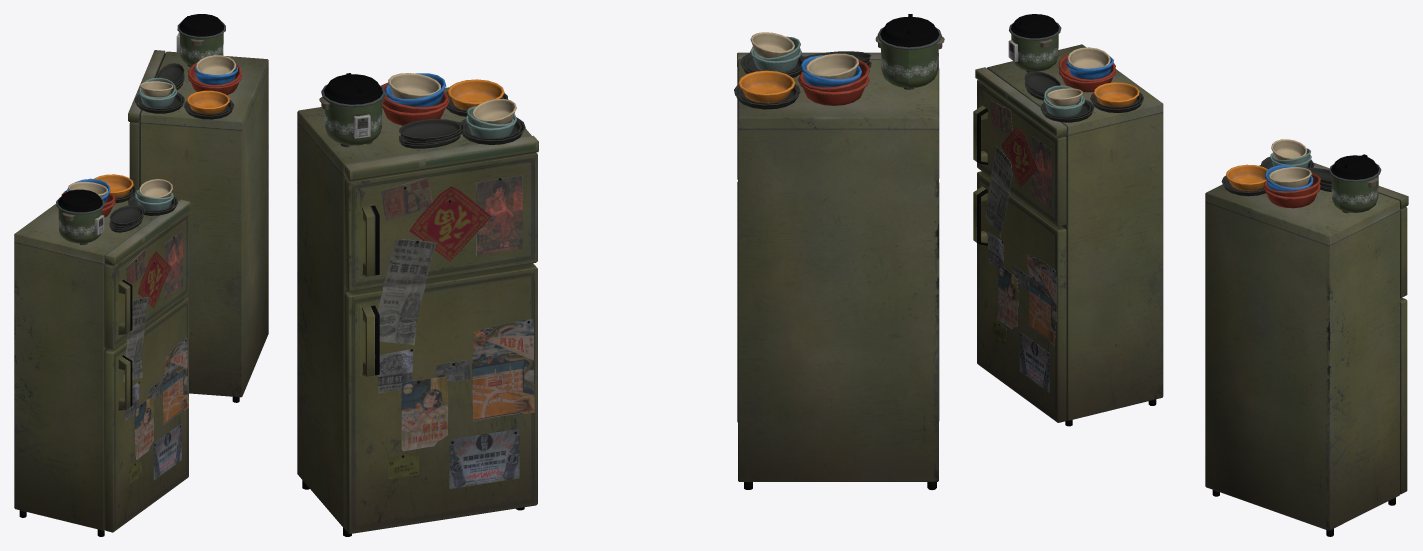
3 renders of one model, left to right at view 1: azimuth 30°, elevation 25°; view 2: azimuth 150°, elevation 25°; view 3: azimuth 270°, elevation 25°, orthographic. The views are drawn at different scales.
Parts seen in each view (by area): view 1: yinglibiaoxian0067, yinglibiaoxian0086, yinglibiaoxian0050, yinglibiaoxian0069, yinglibiaoxian0077, yinglibiaoxian0074, yinglibiaoxian0058, yinglibiaoxian0066, yinglibiaoxian0056, yinglibiaoxian0075, yinglibiaoxian0076, yinglibiaoxian0085 (+4 smaller); view 2: yinglibiaoxian0086, yinglibiaoxian0067, yinglibiaoxian0050, yinglibiaoxian0069, yinglibiaoxian0058, yinglibiaoxian0077, yinglibiaoxian0055, yinglibiaoxian0085, yinglibiaoxian0074, yinglibiaoxian0075, yinglibiaoxian0056, yinglibiaoxian0051; view 3: yinglibiaoxian0086, yinglibiaoxian0067, yinglibiaoxian0050, yinglibiaoxian0069, yinglibiaoxian0058, yinglibiaoxian0077, yinglibiaoxian0055, yinglibiaoxian0074, yinglibiaoxian0075, yinglibiaoxian0070, yinglibiaoxian0066, yinglibiaoxian0056 (+1 smaller).
Boxes of the visible parts, bbox=[...] form: yinglibiaoxian0067: bbox=[14, 178, 190, 536]; yinglibiaoxian0086: bbox=[128, 50, 268, 402]; yinglibiaoxian0050: bbox=[56, 189, 104, 244]; yinglibiaoxian0069: bbox=[176, 14, 225, 66]; yinglibiaoxian0077: bbox=[187, 90, 229, 113]; yinglibiaoxian0074: bbox=[195, 55, 236, 74]; yinglibiaoxian0058: bbox=[94, 174, 133, 197]; yinglibiaoxian0066: bbox=[109, 205, 143, 226]; yinglibiaoxian0056: bbox=[139, 179, 172, 197]; yinglibiaoxian0075: bbox=[139, 81, 173, 97]; yinglibiaoxian0076: bbox=[194, 66, 237, 84]; yinglibiaoxian0085: bbox=[156, 63, 184, 84]; yinglibiaoxian0086: bbox=[297, 87, 538, 536]; yinglibiaoxian0067: bbox=[737, 52, 939, 490]; yinglibiaoxian0050: bbox=[875, 14, 944, 89]; yinglibiaoxian0069: bbox=[319, 73, 386, 147]; yinglibiaoxian0058: bbox=[738, 70, 795, 102]; yinglibiaoxian0077: bbox=[447, 79, 504, 109]; yinglibiaoxian0055: bbox=[806, 53, 858, 79]; yinglibiaoxian0085: bbox=[399, 119, 461, 141]; yinglibiaoxian0074: bbox=[388, 73, 440, 98]; yinglibiaoxian0075: bbox=[472, 98, 516, 124]; yinglibiaoxian0056: bbox=[750, 32, 794, 57]; yinglibiaoxian0051: bbox=[798, 74, 869, 105]; yinglibiaoxian0086: bbox=[1205, 163, 1408, 536]; yinglibiaoxian0067: bbox=[973, 44, 1163, 426]; yinglibiaoxian0050: bbox=[1008, 14, 1061, 72]; yinglibiaoxian0069: bbox=[1329, 154, 1381, 213]; yinglibiaoxian0058: bbox=[1094, 82, 1139, 106]; yinglibiaoxian0077: bbox=[1226, 164, 1267, 190]; yinglibiaoxian0055: bbox=[1067, 47, 1110, 68]; yinglibiaoxian0074: bbox=[1268, 167, 1311, 187]; yinglibiaoxian0075: bbox=[1271, 139, 1307, 159]; yinglibiaoxian0070: bbox=[1263, 184, 1320, 208]; yinglibiaoxian0066: bbox=[1024, 71, 1060, 94]; yinglibiaoxian0056: bbox=[1047, 88, 1082, 106].
Size of the model in its own units: 121 by 103 by 115.
